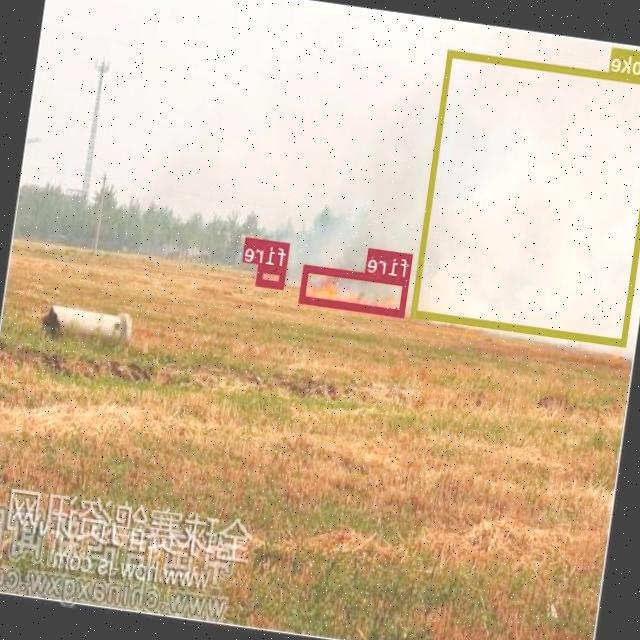fire: (300, 264, 410, 316), (257, 263, 288, 289)
smoke: (412, 49, 640, 346)
